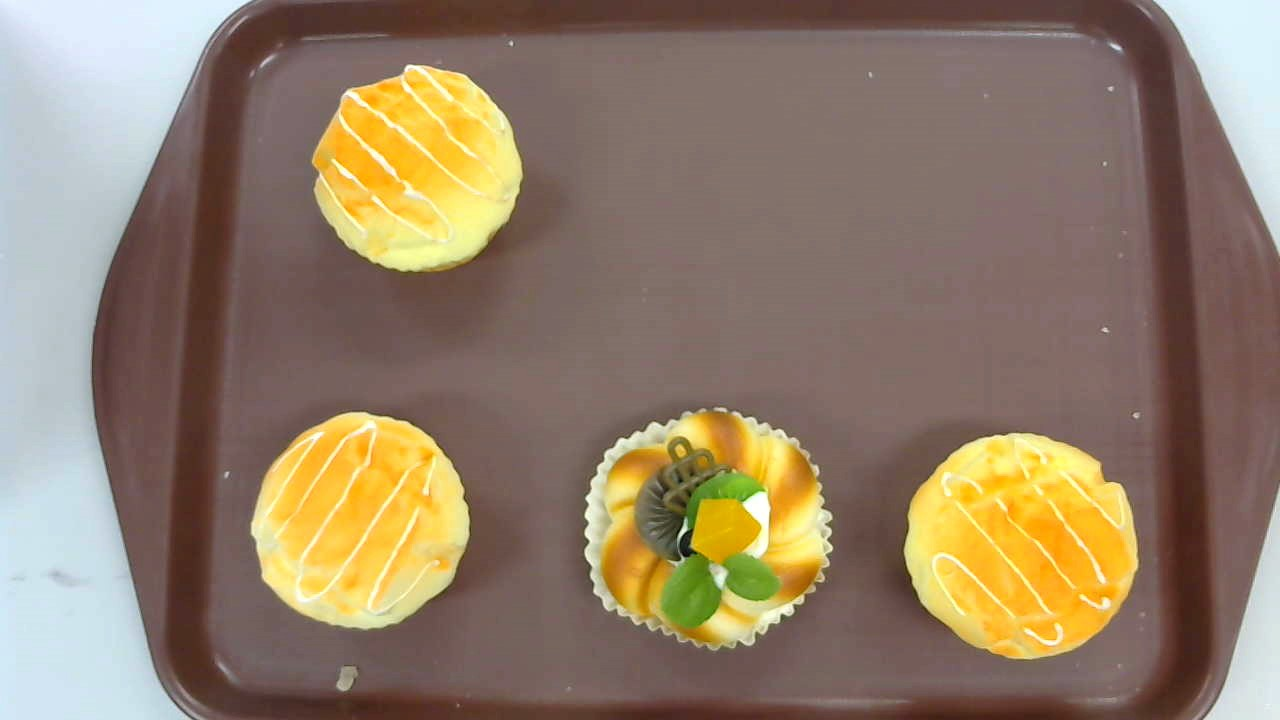cupcake: (903, 433, 1139, 659), (250, 411, 471, 631), (311, 63, 523, 273)
fruit tart: (584, 405, 835, 654)
